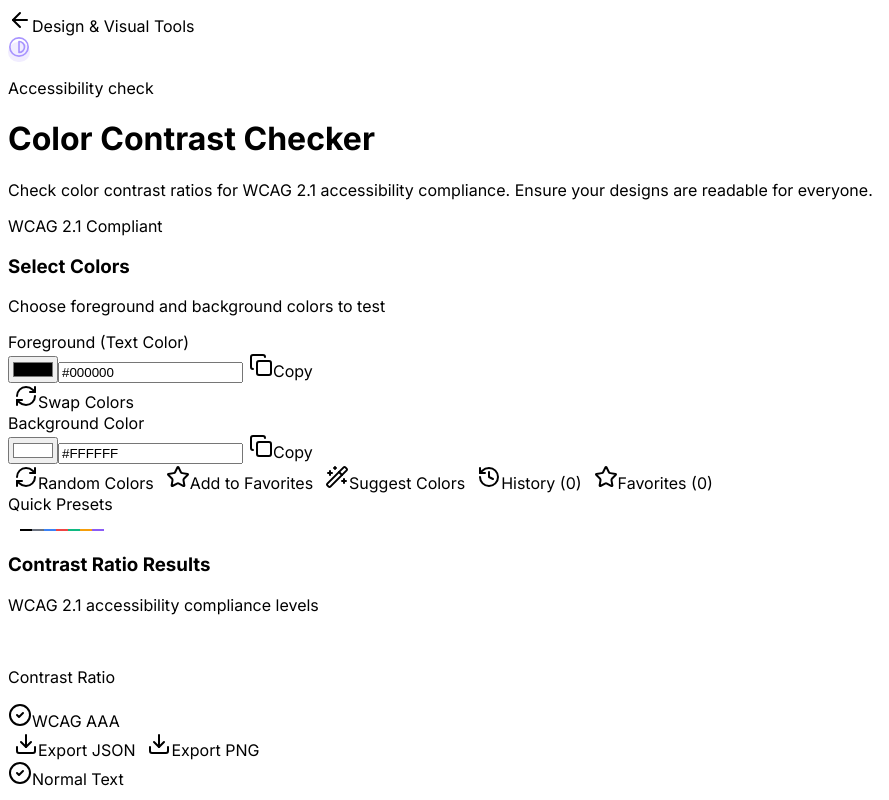
Test case: Color Contrast Checker - Functionality Tests › should swap colors when swap button is clicked
Click the button "Swap Colors": coordinates (74, 398) top-left (8, 383), bottom-right (140, 413)
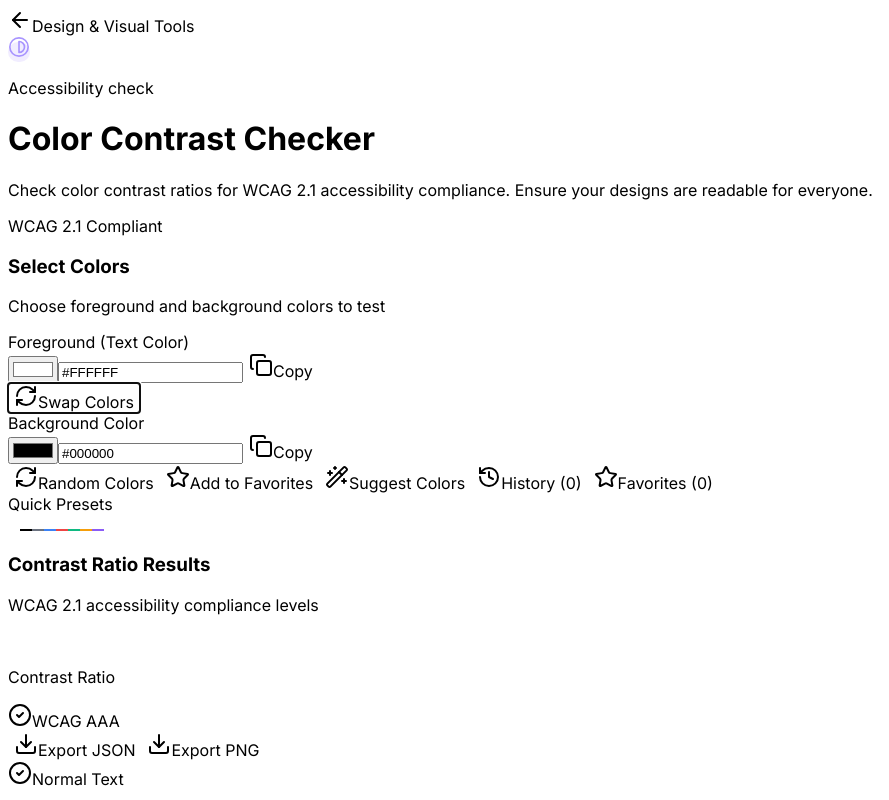
Expected: the field with placeholder "#000000" below "Foreground (Text Color)" holds "#FFFFFF", top-left (58, 362), bottom-right (243, 383)
Expected: the 2nd field with placeholder "#FFFFFF" holds "#000000", top-left (58, 443), bottom-right (243, 464)
